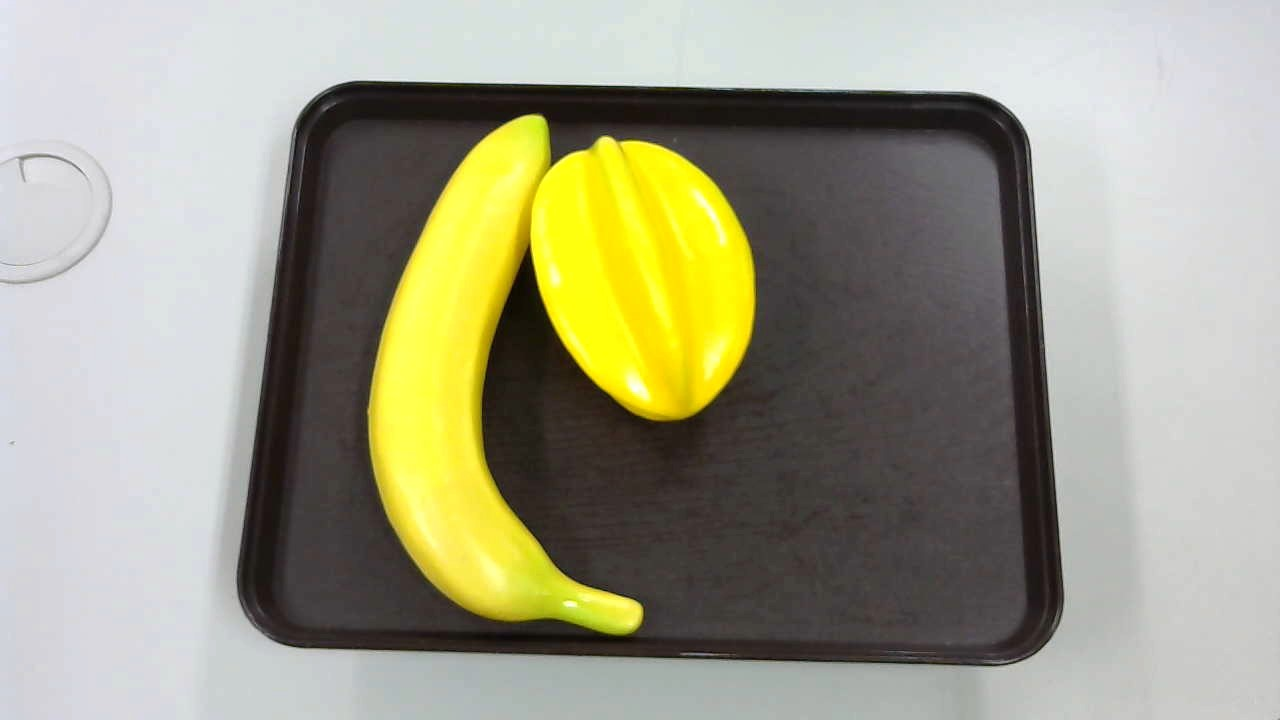banana: (366, 116, 644, 632)
star fruit: (523, 134, 761, 430)
